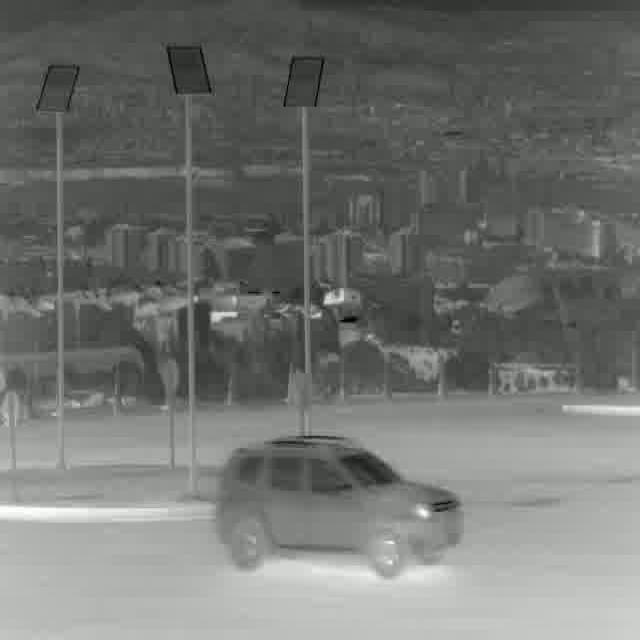Car: (215, 435, 468, 581)
